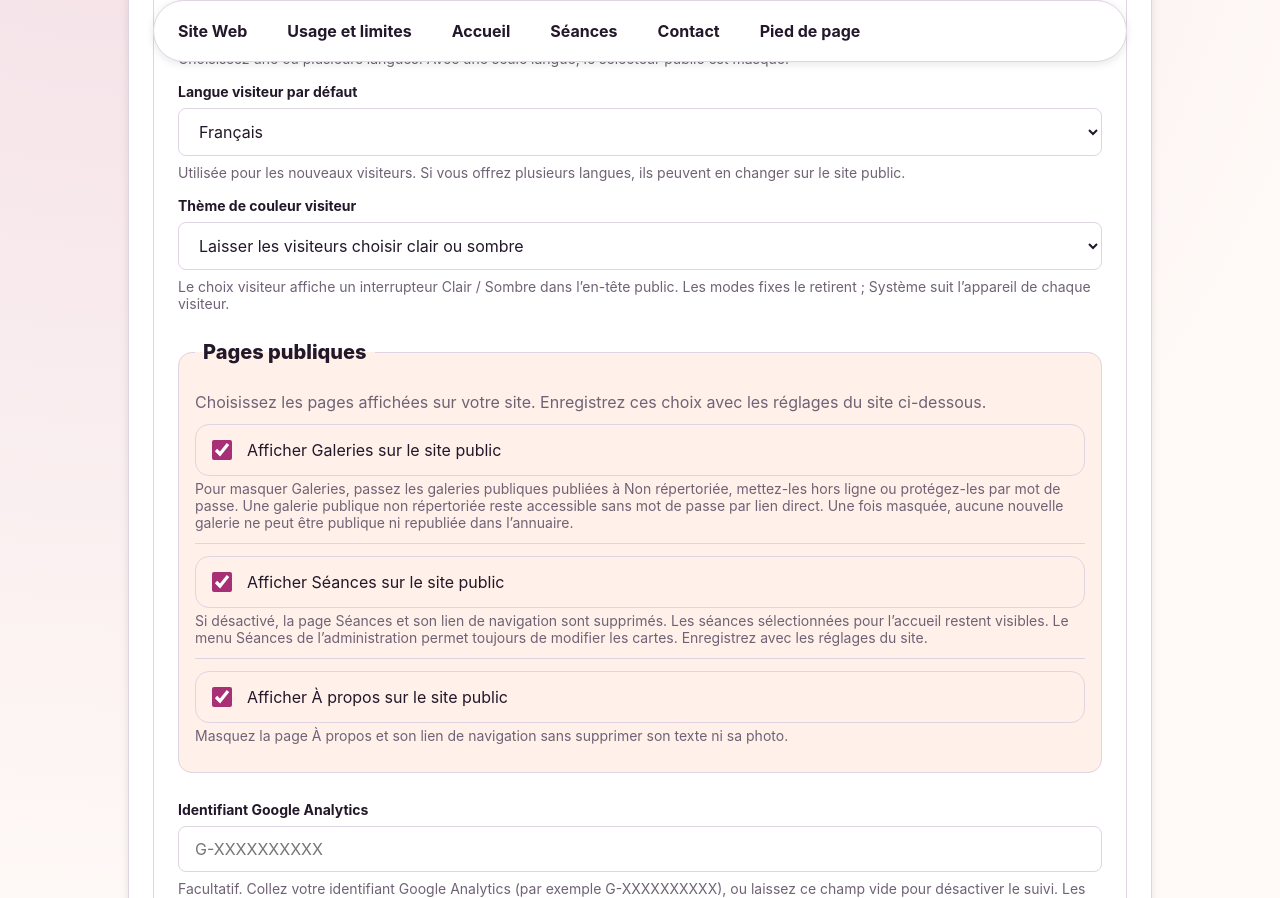
admin site copy › shows a prominent alert when an accessible public gallery blocks hiding Galleries
(page scrolled)
Click the checkbox labelled "Afficher Galeries sur le site public". click: point(222, 450)
box: [212, 440, 232, 460]
(page scrolled)
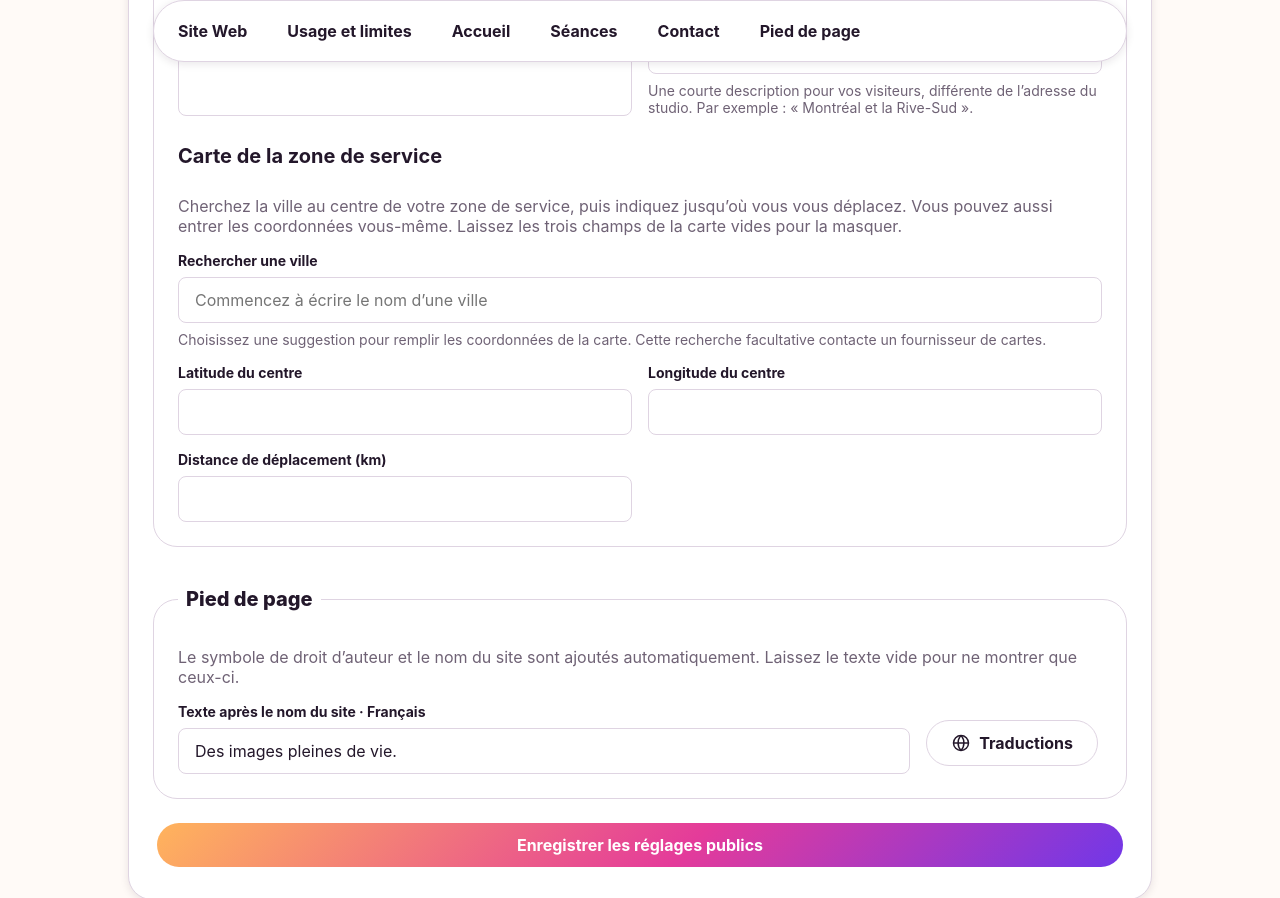
Click the button "Enregistrer les réglages publics". click: point(640, 845)
box: [157, 823, 1123, 867]
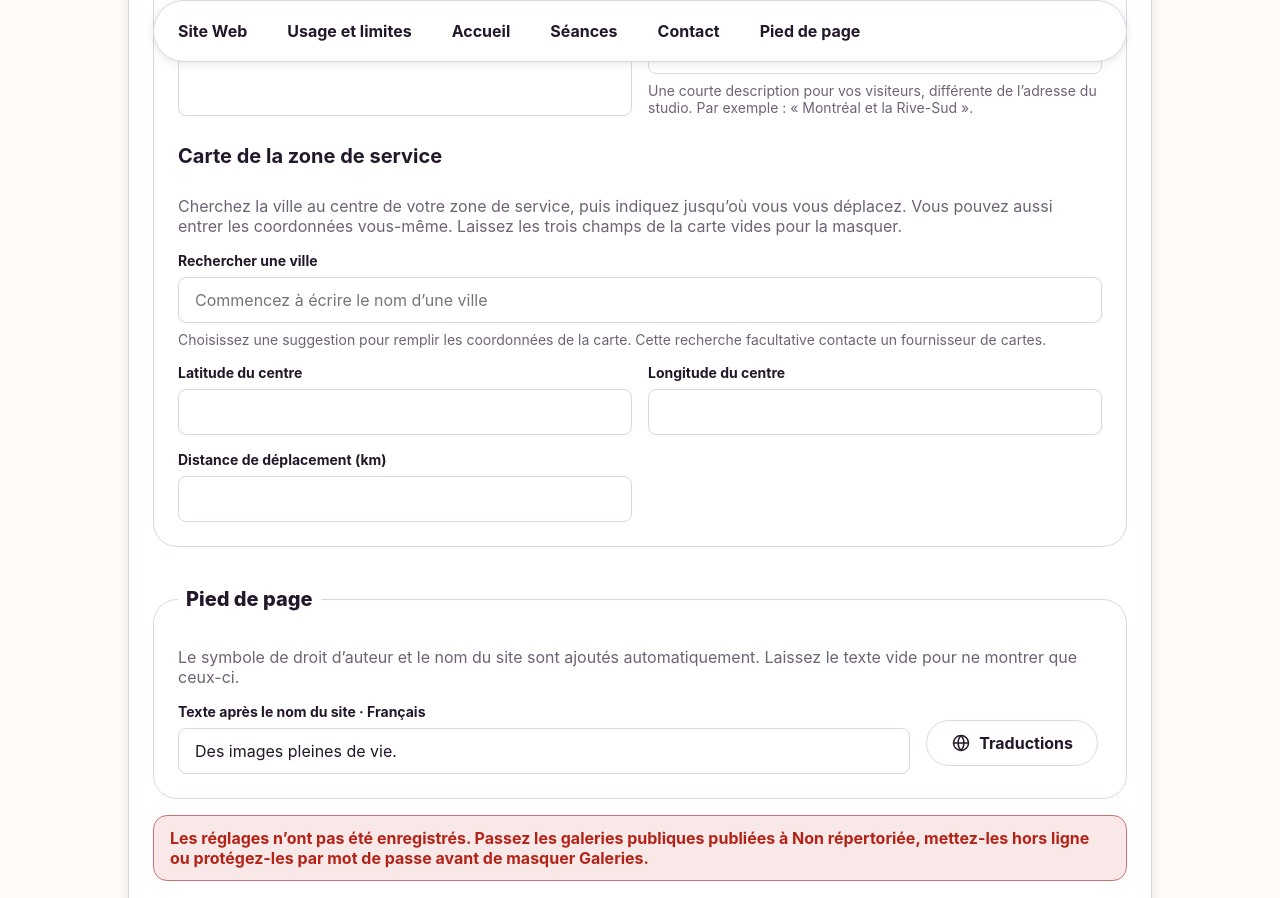
Check: the text "Les réglages n’ont pas été enregistrés" shows "hors ligne ou protégez-les par mot de passe", box [170, 828, 1089, 868]
